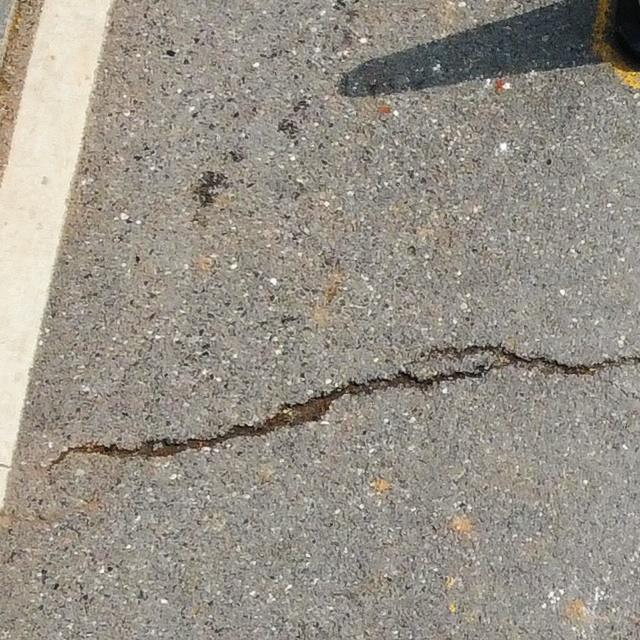TransverseCrack: (44, 341, 640, 469)
